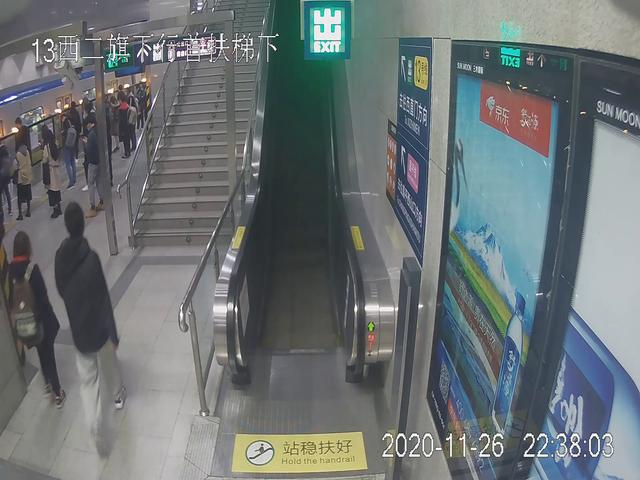person: (55, 203, 119, 457), (1, 233, 68, 406), (76, 112, 111, 214), (37, 125, 73, 219), (6, 130, 39, 216), (115, 92, 136, 155)
